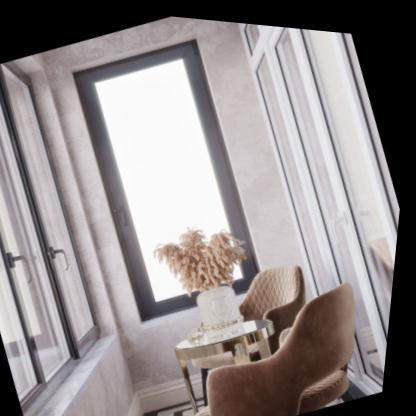Window: (56, 30, 281, 323)
